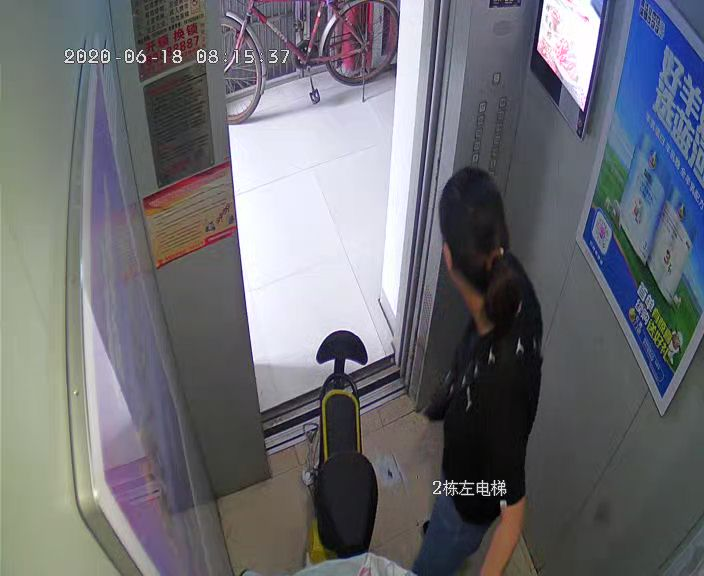Electric-bicycle: (304, 329, 379, 576)
